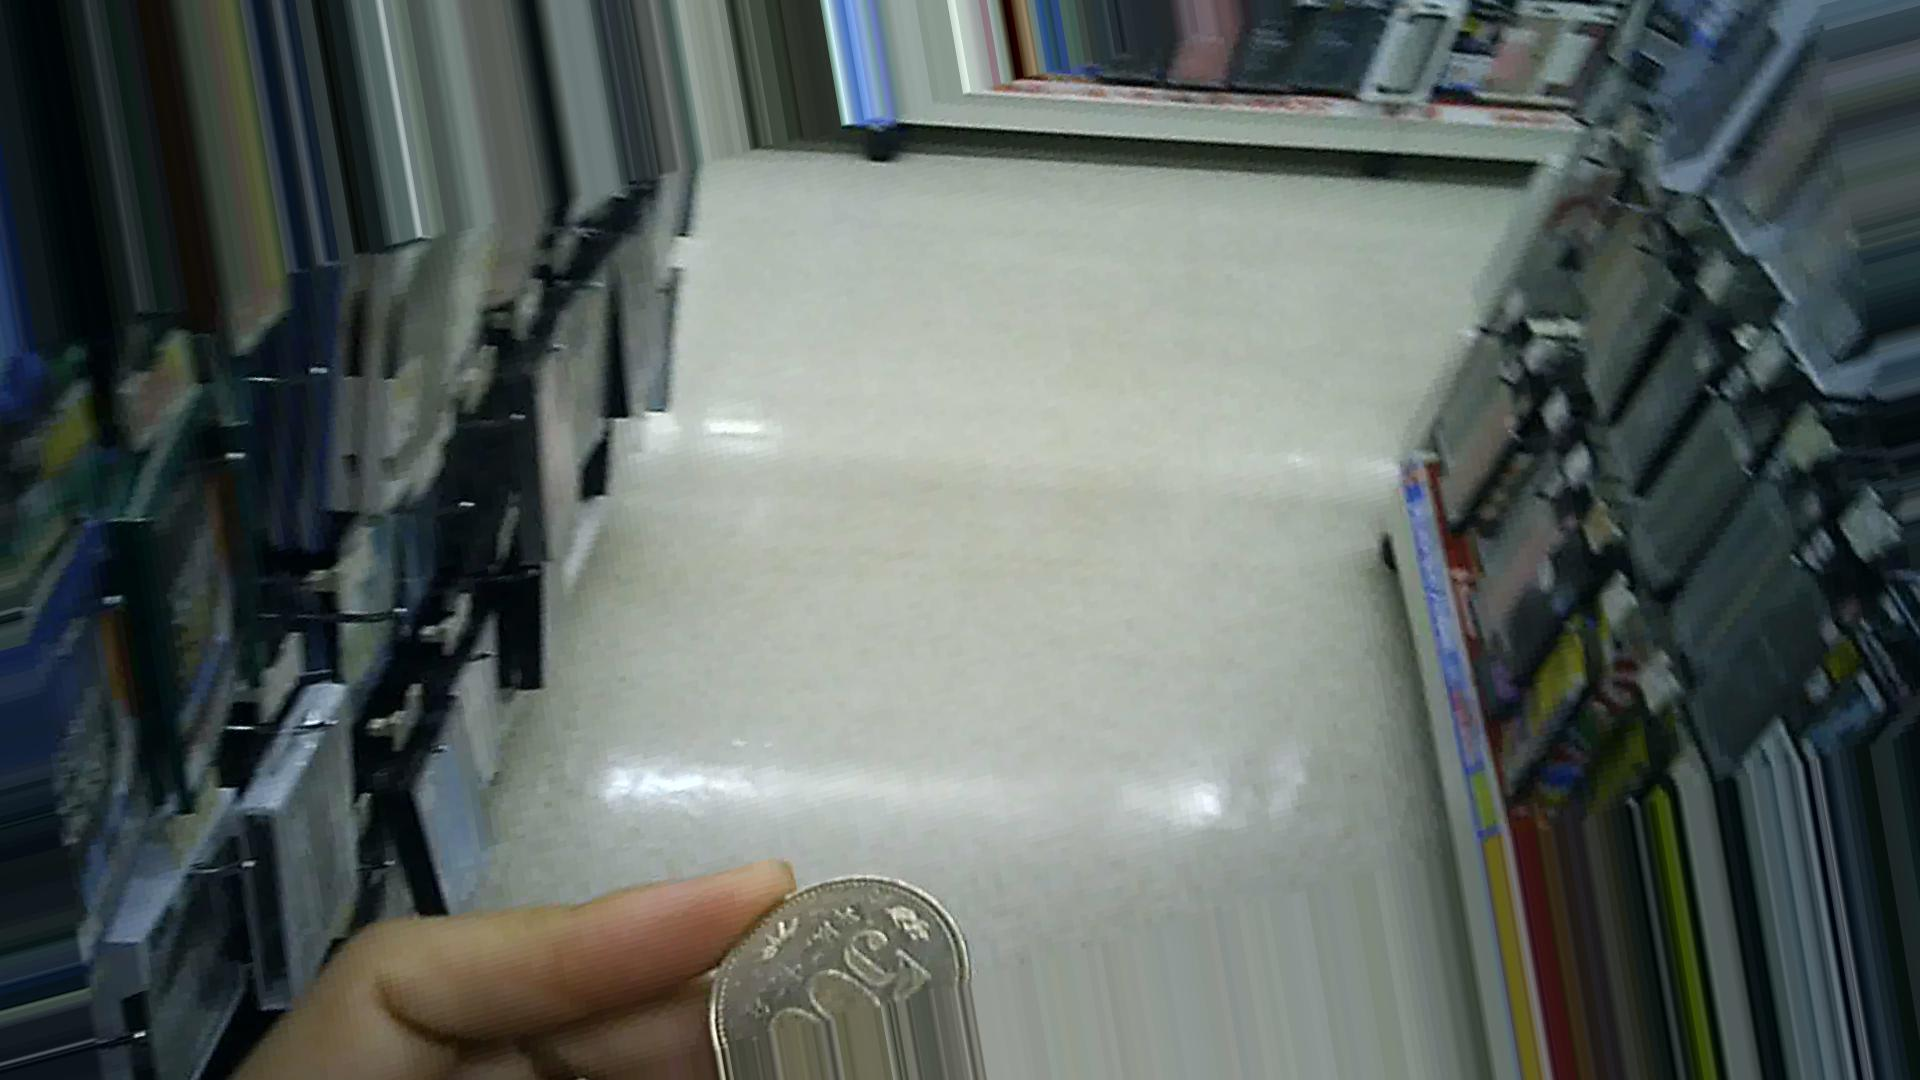500 Yen: (711, 853, 968, 1056)
